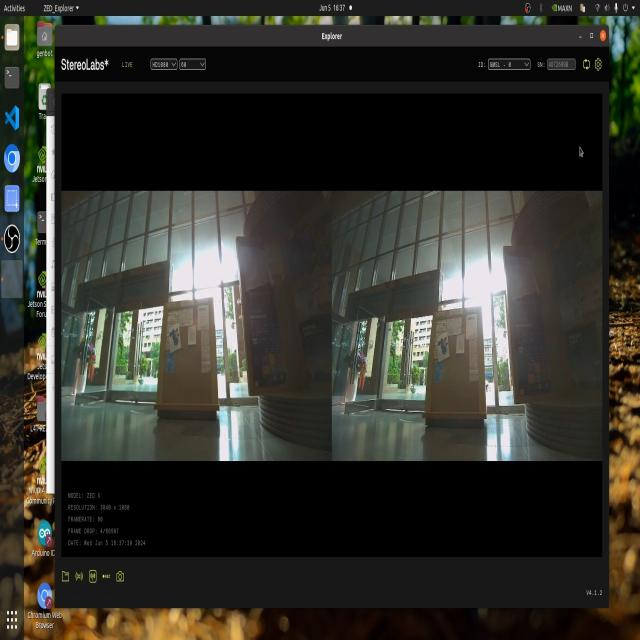blue: (435, 331, 451, 367), (170, 329, 181, 350)
